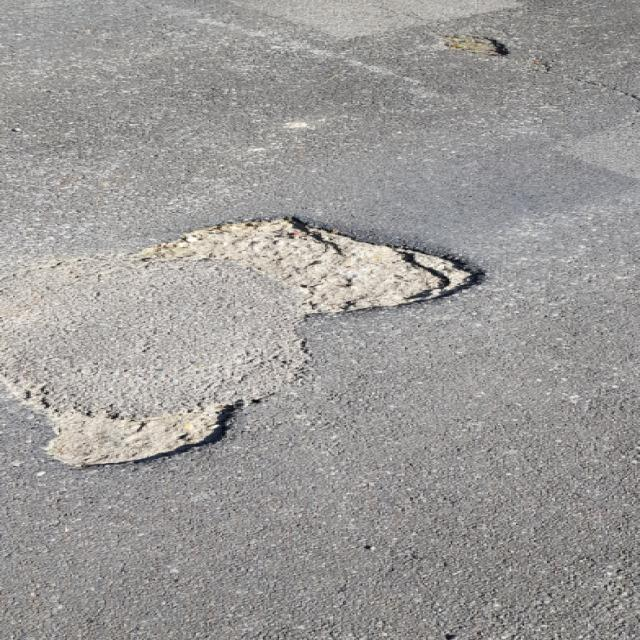pothole: (127, 213, 485, 317), (16, 396, 258, 470)
